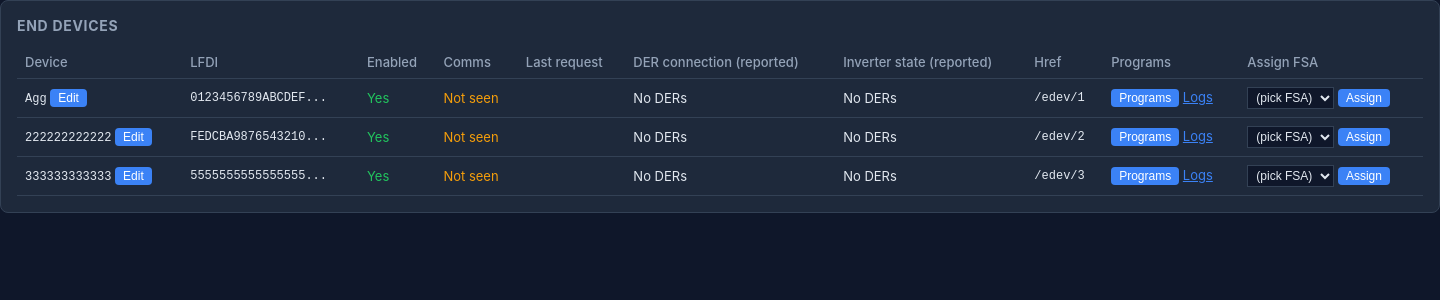
Test case: Devices tab Edit kind and devices › keeps a plain rename a name-only save, with the kind read from the server
Click the button "Edit" next to "Agg". click: click(69, 98)
box: x1=50 y1=89 x2=87 y2=107
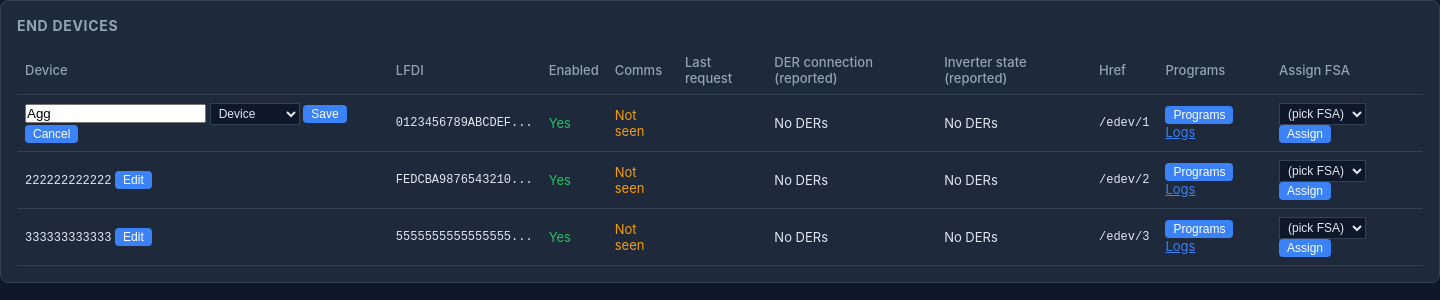
Replace the text in the field with test id "device-name-input" with "Roof". click: (116, 114)
box: x1=25 y1=104 x2=206 y2=123
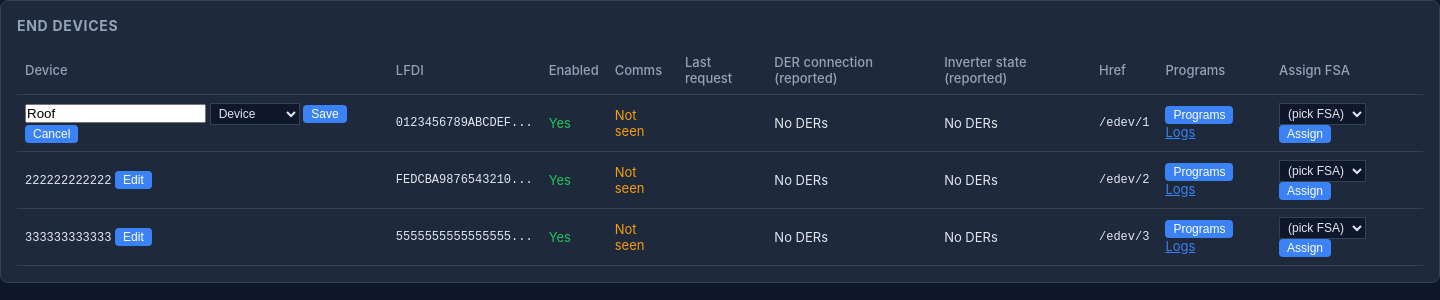
Click the button with test id "device-name-save". click: click(325, 114)
box: x1=303 y1=105 x2=347 y2=123
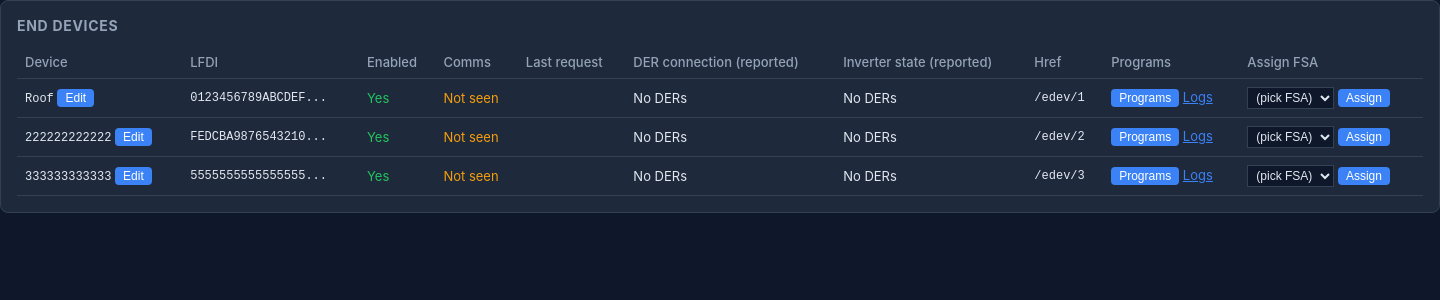
Expected: the field with test id "device-name-input" is gone
